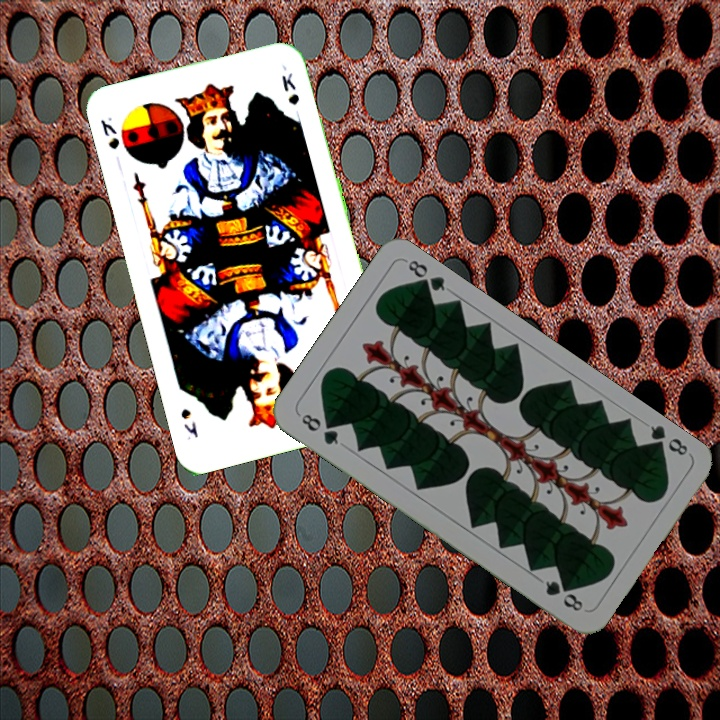G8: (644, 421, 691, 459), (297, 409, 341, 448)
SK: (96, 113, 122, 152)
